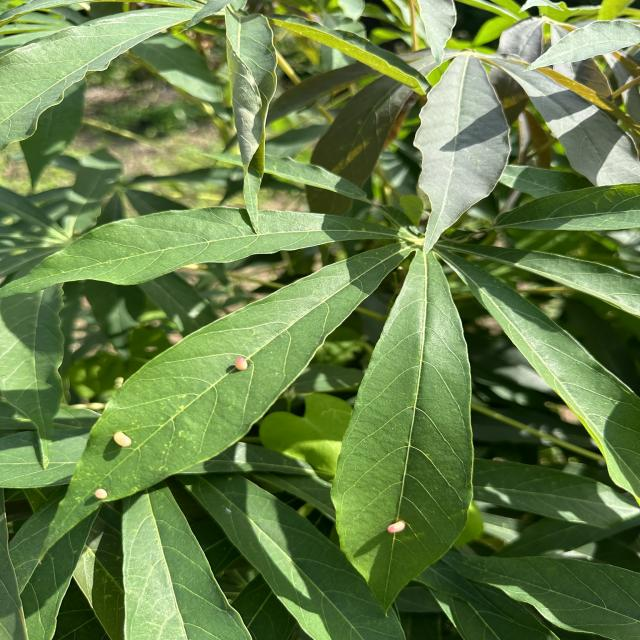Mosca: (356, 488, 409, 549), (78, 467, 135, 522), (102, 407, 138, 457), (212, 349, 258, 380)
